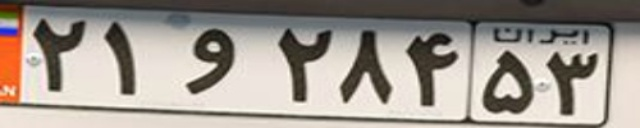1: (100, 21, 141, 94)
2: (32, 16, 87, 91), (278, 27, 332, 101)
3: (544, 50, 597, 116)
4: (405, 30, 458, 106)
5: (481, 49, 533, 114)
8: (337, 28, 391, 104)
vav: (183, 28, 235, 95)
